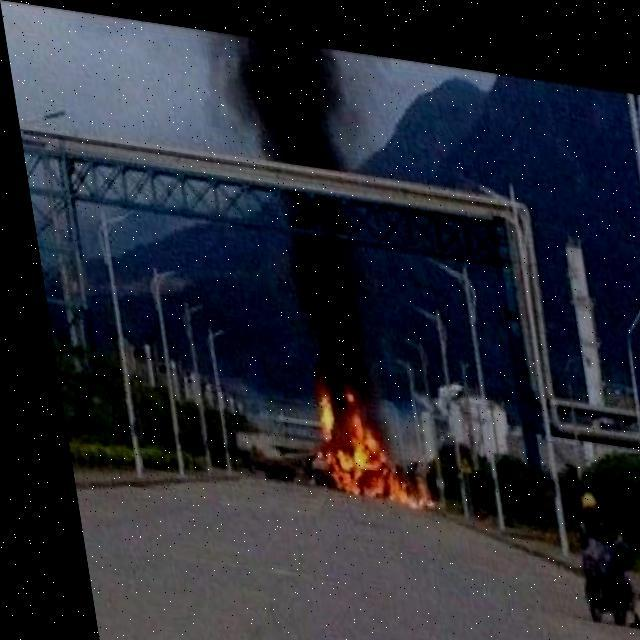Fire: (296, 367, 424, 504)
